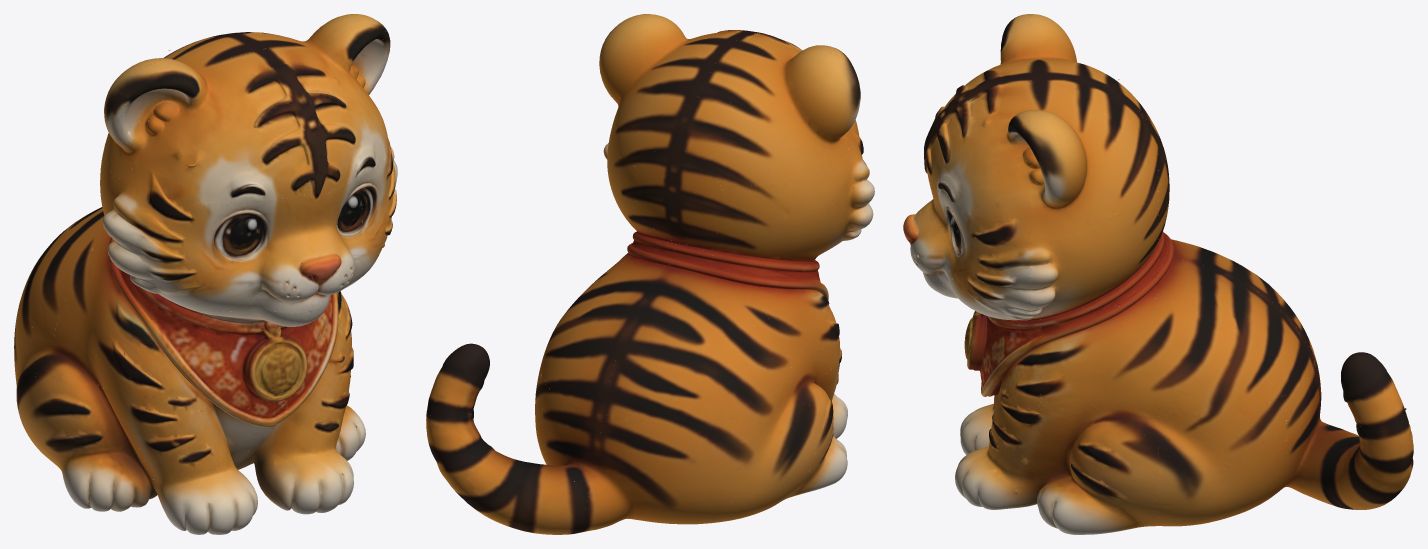
The model's file is hi3d-zodiac-tiger-web.glb.
The picture shows the model from 3 angles, left to right: view 1: azimuth 30°, elevation 25°; view 2: azimuth 150°, elevation 25°; view 3: azimuth 270°, elevation 25°; orthographic projection. The views are drawn at different scales.
Parts seen in each view (by area): view 1: zodiac_tiger_mesh_01; view 2: zodiac_tiger_mesh_01; view 3: zodiac_tiger_mesh_01.
Boxes of the visible parts, x1,y1,x2,y2 form: zodiac_tiger_mesh_01: (14, 14, 397, 534); zodiac_tiger_mesh_01: (426, 14, 874, 534); zodiac_tiger_mesh_01: (903, 14, 1413, 534).
Bounding box in the file's own units: 0.6575 × 0.9085 × 1.
Materials: 1 (1 with a texture image).
